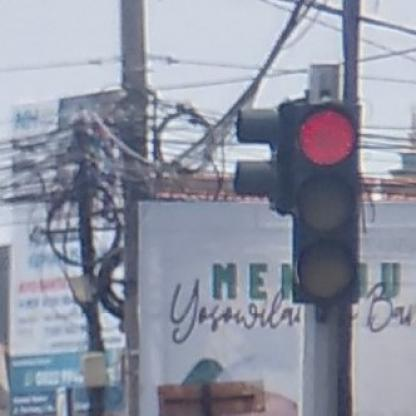red: (291, 104, 357, 303)
